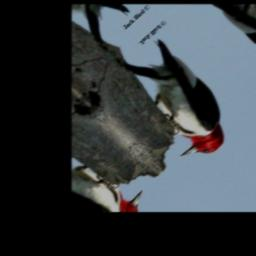Woodpecker: (101, 34, 249, 172)
